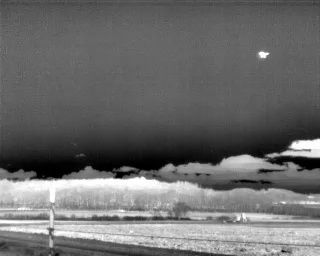DRONE: (255, 47, 272, 63)
